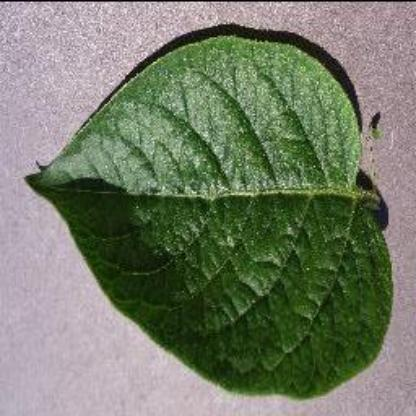Healthy-plant: (25, 30, 405, 408)
